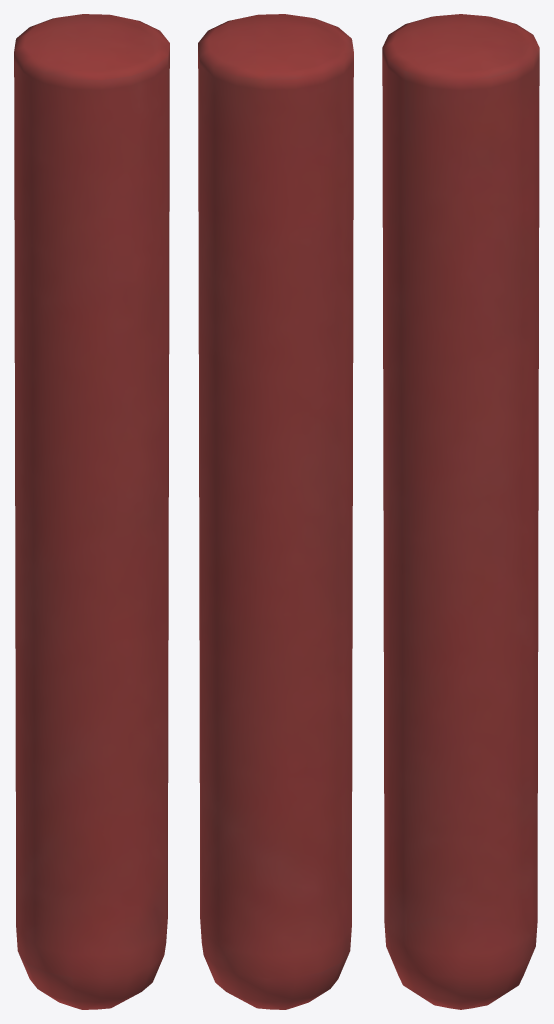
The model's file is test_tube_content_f.glb.
3 renders of one model, left to right at view 1: azimuth 30°, elevation 25°; view 2: azimuth 150°, elevation 25°; view 3: azimuth 270°, elevation 25°, orthographic.
Parts seen in each view (by area): view 1: chemistry_set_test_tube_content_f.001; view 2: chemistry_set_test_tube_content_f.001; view 3: chemistry_set_test_tube_content_f.001.
Boxes of the visible parts, bbox=[...] form: chemistry_set_test_tube_content_f.001: bbox=[14, 14, 169, 1009]; chemistry_set_test_tube_content_f.001: bbox=[198, 14, 353, 1009]; chemistry_set_test_tube_content_f.001: bbox=[382, 14, 539, 1009].
Size of the model in its own units: 0.0128 by 0.0858 by 0.0128.
1 material, 1 textured.
